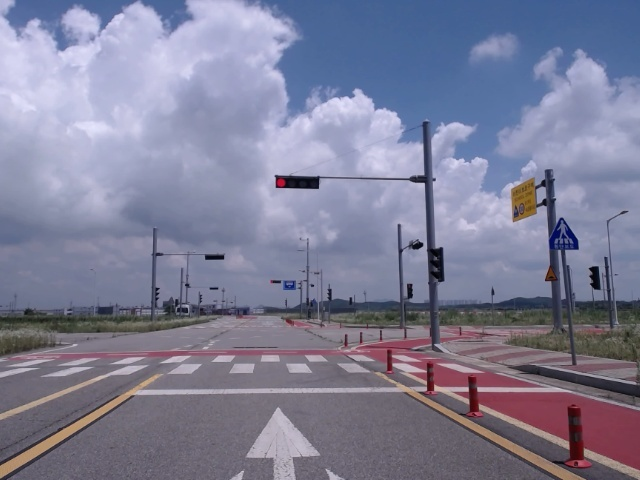red_4: (276, 175, 320, 189)
